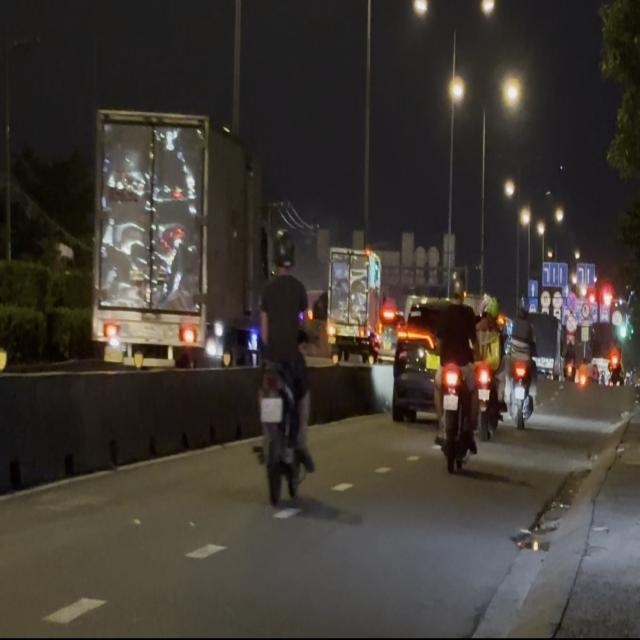helmet: (272, 234, 295, 272)
licenseplate: (252, 233, 314, 504)
nohelmet: (260, 397, 282, 420)
